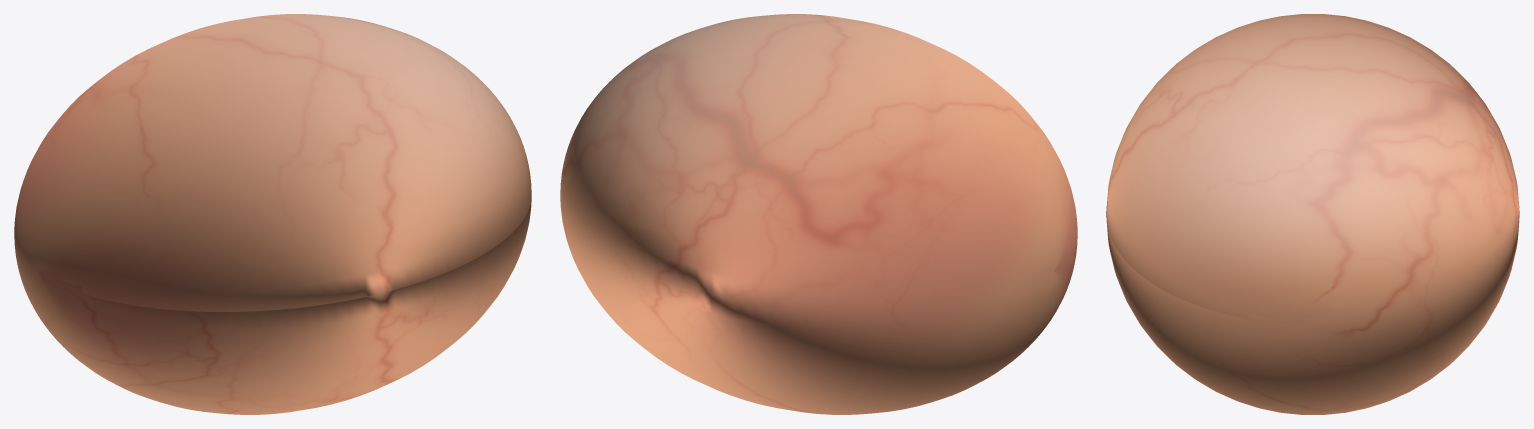
3 renders of one model, left to right at view 1: azimuth 30°, elevation 25°; view 2: azimuth 150°, elevation 25°; view 3: azimuth 270°, elevation 25°, orthographic. The views are drawn at different scales.
Parts seen in each view (by area): view 1: default; view 2: default; view 3: default.
Boxes of the visible parts, box(x1,y1,x2,y2) form: default: box(14, 14, 531, 414); default: box(560, 14, 1077, 414); default: box(1106, 14, 1519, 414).
Bounding box in the file's own units: 10.07 × 7.17 × 8.01.
12 materials, 12 textured.
